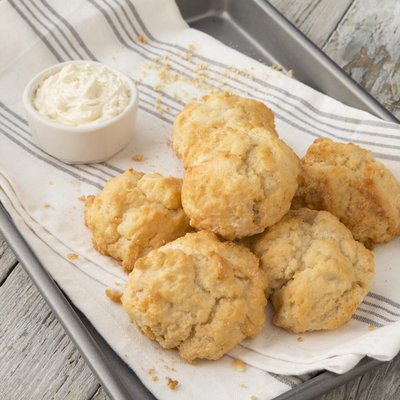sandwich: (184, 0, 400, 127)
sushi: (22, 60, 139, 165)
